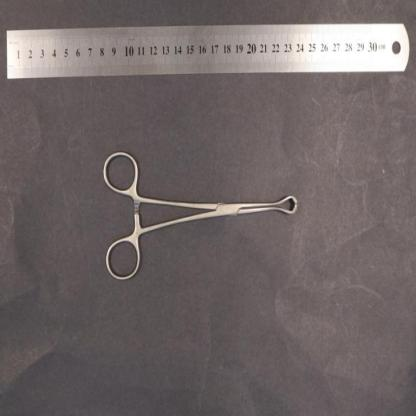Babcock Tissue Forceps: (102, 148, 300, 284)
